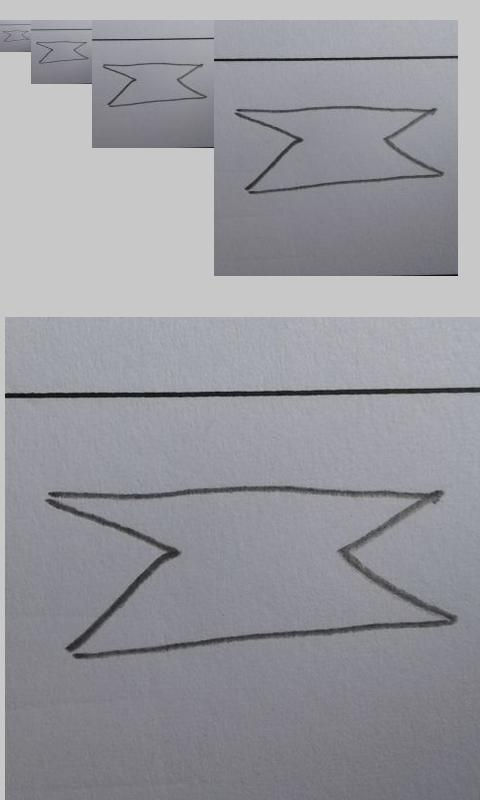edit_text: (50, 479, 456, 663), (234, 101, 445, 196), (102, 62, 208, 108), (36, 40, 88, 64), (1, 29, 30, 43)
